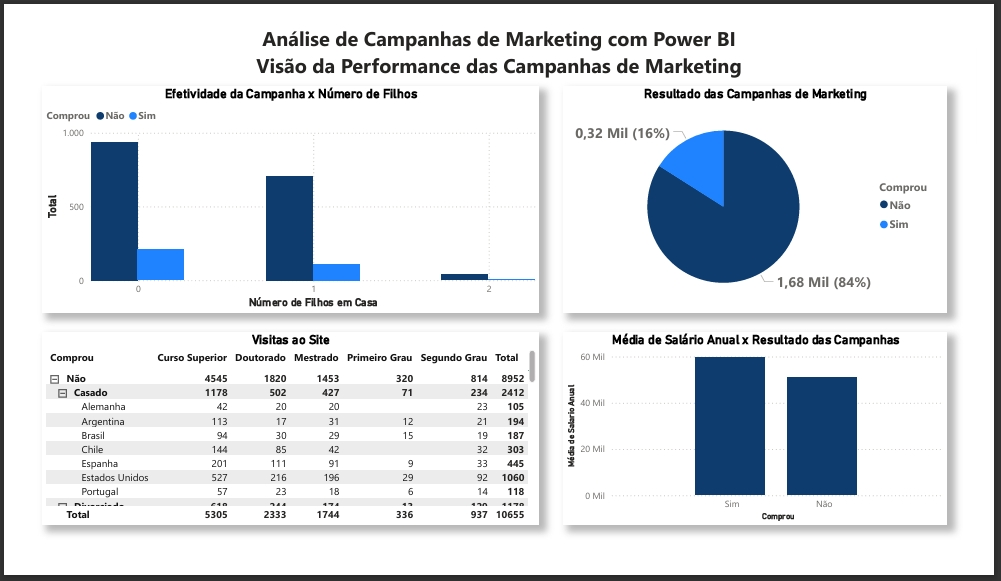

This screenshot's page, from the dashboard's own definition file:
{"tool":"powerbi","page":{"name":"Visão Campanhas","canvas":[1280,720],"ordinal":2},"visuals":[{"type":"textbox","box":[0,0,1280.5,87.8],"z":0},{"type":"pieChart","title":"Resultado das Campanhas de Marketing","fields":{"Y":["CountNonNull(dados_marketing.ID)"],"Category":["dados_marketing.comprou_novo"]},"box":[727.3,87.8,515.1,302.9],"z":1000},{"type":"clusteredColumnChart","title":"Média de Salário Anual x Resultado das Campanhas","fields":{"Y":["Avg(dados_marketing.Salario Anual)"],"Category":["dados_marketing.comprou_novo"]},"box":[726.9,417.1,515.1,257.6],"z":2000},{"type":"pivotTable","title":"Visitas ao Site","fields":{"Values":["Sum(dados_marketing.Numero Visitas WebSite Mes)"],"Columns":["dados_marketing.Escolaridade"],"Rows":["dados_marketing.comprou_novo","dados_marketing.Estado Civil","dados_marketing.Pais"]},"box":[27.8,417.1,665.9,257.6],"z":3000},{"type":"clusteredColumnChart","title":"Efetividade da Campanha x Número de Filhos","fields":{"Category":["dados_marketing.Filhos em Casa"],"Y":["CountNonNull(dados_marketing.Filhos em Casa)"],"Series":["dados_marketing.comprou_novo"]},"box":[27.8,87.8,665.9,302.9],"z":4000}]}

Visuals, with their boxes on the page's 1280x720 design canvas (x1, y1, x2, y2). These are canvas units, not pixel positions in the 1001x581 screenshot, which may show the page scaled, cropped or inside an application window:
textbox: rect(0, 0, 1280, 88)
"Resultado das Campanhas de Marketing" pieChart: rect(727, 88, 1242, 391)
"Média de Salário Anual x Resultado das Campanhas" clusteredColumnChart: rect(727, 417, 1242, 675)
"Visitas ao Site" pivotTable: rect(28, 417, 694, 675)
"Efetividade da Campanha x Número de Filhos" clusteredColumnChart: rect(28, 88, 694, 391)
